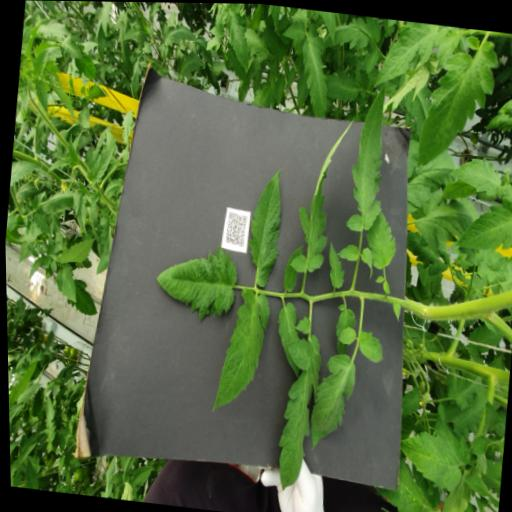Healthy: (413, 31, 503, 175), (284, 109, 358, 277), (270, 330, 325, 491), (207, 283, 273, 417), (341, 75, 394, 233), (151, 236, 241, 325), (241, 162, 288, 287), (305, 349, 357, 454), (373, 16, 441, 93), (410, 185, 481, 256), (453, 189, 512, 252), (296, 21, 335, 116), (270, 299, 305, 377), (446, 150, 504, 195), (322, 10, 383, 52), (361, 207, 400, 270), (402, 228, 451, 277), (222, 11, 255, 69), (6, 353, 38, 412), (250, 66, 287, 108), (85, 139, 117, 185), (324, 65, 361, 104), (464, 321, 504, 357), (56, 231, 96, 267), (64, 277, 100, 316), (331, 305, 357, 355), (222, 39, 252, 82), (280, 241, 304, 292), (40, 184, 77, 216), (242, 24, 273, 62), (69, 187, 92, 238), (93, 211, 117, 259), (175, 48, 208, 81), (259, 24, 290, 59), (325, 239, 347, 288), (9, 158, 42, 190), (355, 327, 385, 362), (53, 261, 79, 301), (72, 41, 100, 78), (163, 22, 199, 49), (39, 394, 58, 443), (126, 461, 153, 494), (399, 383, 420, 418), (29, 44, 50, 79), (29, 79, 50, 113), (15, 379, 42, 405), (8, 433, 21, 487), (118, 106, 136, 144), (281, 16, 308, 40), (60, 34, 85, 59), (496, 83, 512, 122), (128, 58, 143, 99), (21, 458, 40, 490), (85, 81, 111, 104), (357, 245, 375, 278), (65, 131, 83, 163), (335, 240, 359, 261), (454, 499, 491, 512), (33, 210, 52, 235), (290, 313, 311, 334), (364, 48, 380, 75), (6, 365, 13, 424), (336, 324, 356, 344), (208, 21, 226, 37), (40, 0, 58, 13), (142, 39, 153, 54)
